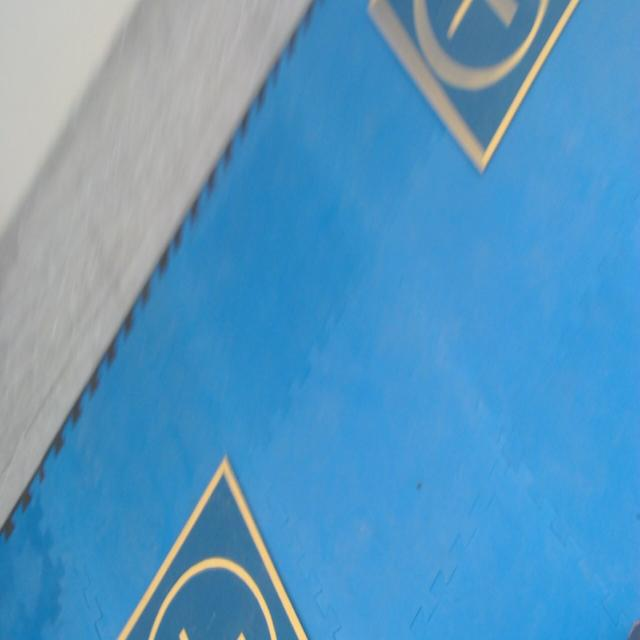base_pouso: (361, 1, 584, 175), (114, 454, 310, 638)
